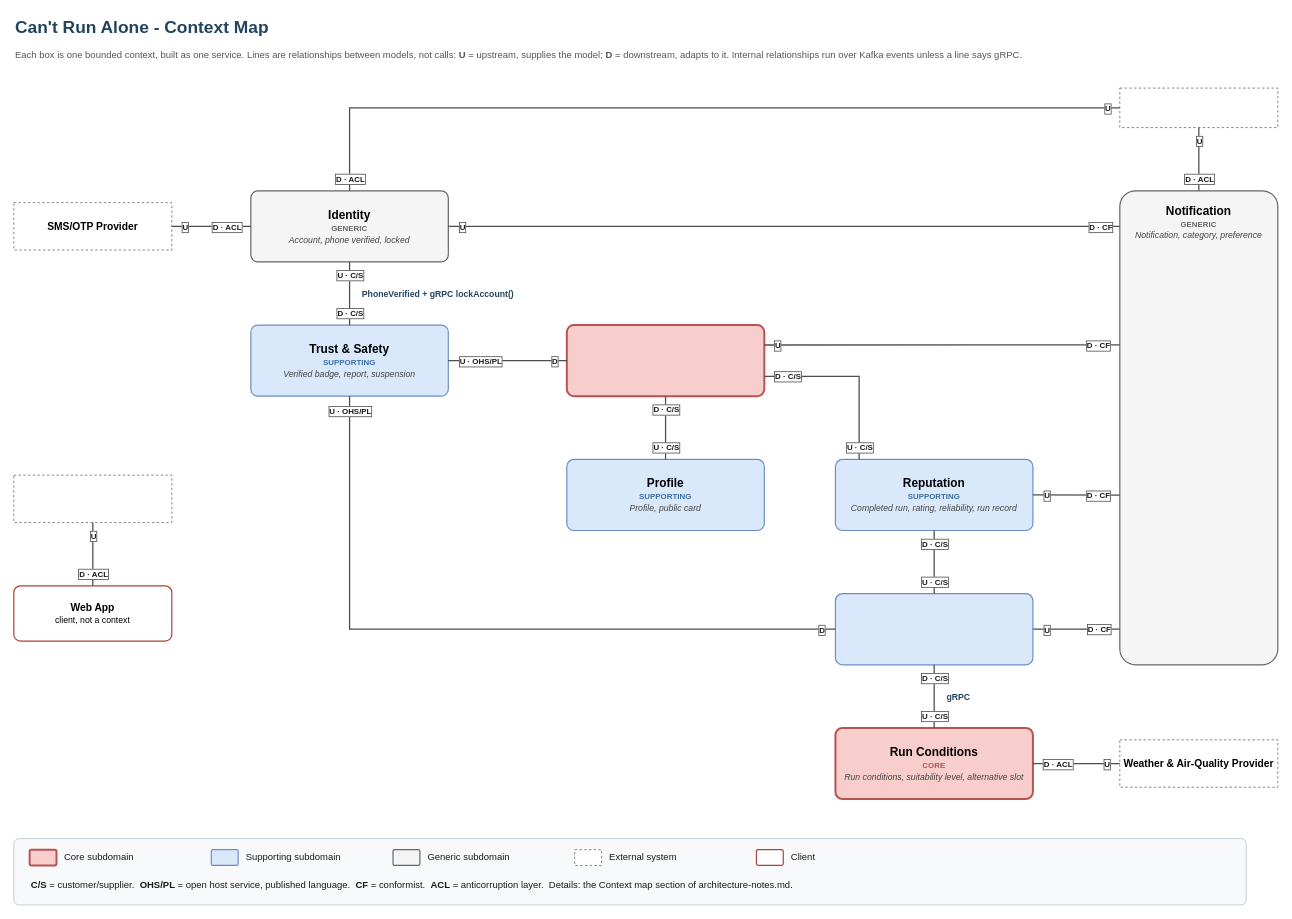
Image size: 1292x919. Some labels were removed from this diagram. The centre of each missing label's shape, as x and y in pixels:
Buddy Discovery CORE Candidate, buddy request, buddy, cooling-off: the point at 665,360
Email Provider: the point at 1198,107
Map Provider: the point at 92,498
Run Scheduling SUPPORTING Run, participant, late cancellation: the point at 933,629
